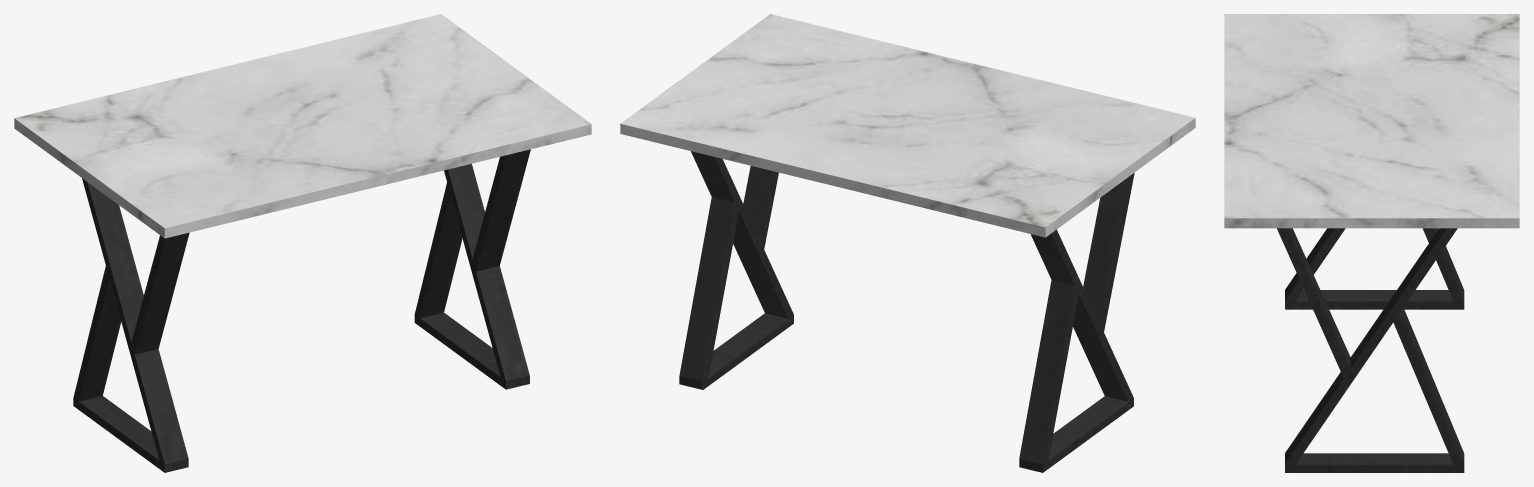
Rendered from Table09.glb.
3 renders of one model, left to right at view 1: azimuth 30°, elevation 25°; view 2: azimuth 150°, elevation 25°; view 3: azimuth 270°, elevation 25°, orthographic.
Visible parts, largest first — view 1: Table09_model; view 2: Table09_model; view 3: Table09_model.
Part boxes in pixels (x1,y1,x2,y2): Table09_model: (14, 14, 591, 472); Table09_model: (620, 14, 1195, 472); Table09_model: (1224, 14, 1519, 472).
Bounding box in the file's own units: 2.59 × 1.59 × 1.58.
Materials: 1 (1 with a texture image).
